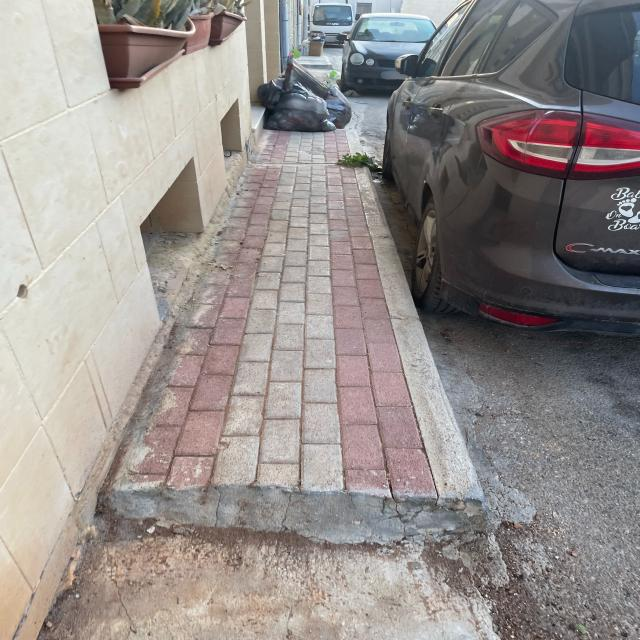black_bag: (263, 92, 337, 132), (255, 61, 325, 92), (326, 84, 354, 130)
other_waste: (297, 37, 325, 57)
